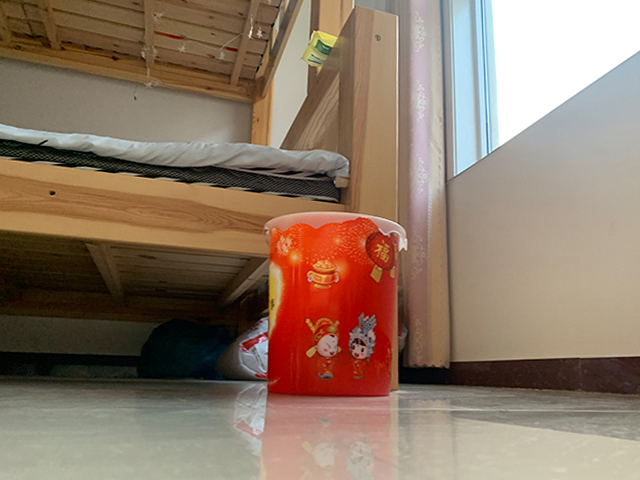bed: (1, 1, 405, 323)
curtain: (389, 1, 453, 369)
trashcan: (262, 210, 404, 398)
